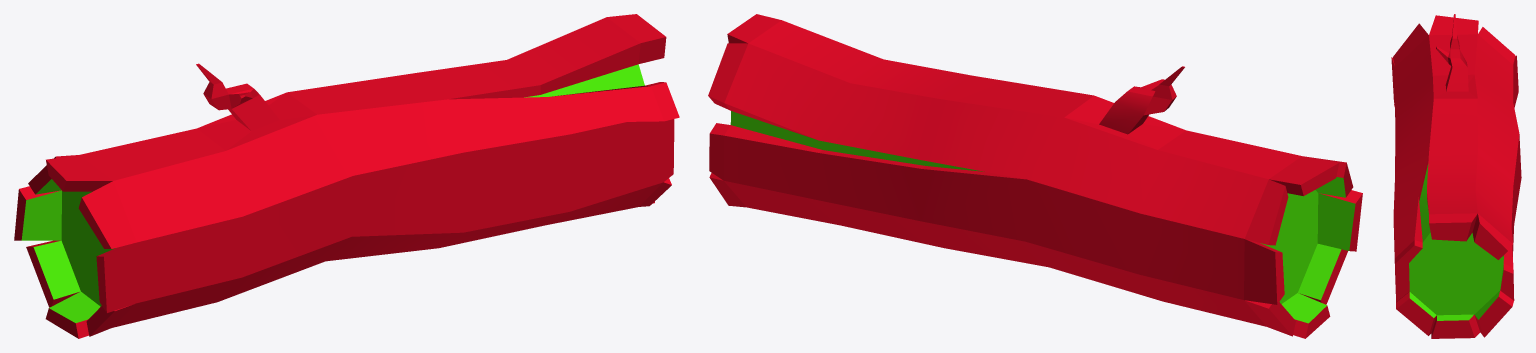
Rendered from holzganz.fbx.
3 views of the same model, side by side, from view 1: azimuth 30°, elevation 25°; view 2: azimuth 150°, elevation 25°; view 3: azimuth 270°, elevation 25° (orthographic). The views are drawn at different scales.
Visible parts, largest first — view 1: holzganz; view 2: holzganz; view 3: holzganz.
Part boxes in pixels (bbox=[...]): holzganz: bbox=[14, 14, 679, 338]; holzganz: bbox=[708, 14, 1362, 338]; holzganz: bbox=[1391, 14, 1521, 338].
Size of the model in its own units: 53.24 by 20.05 by 13.97.
